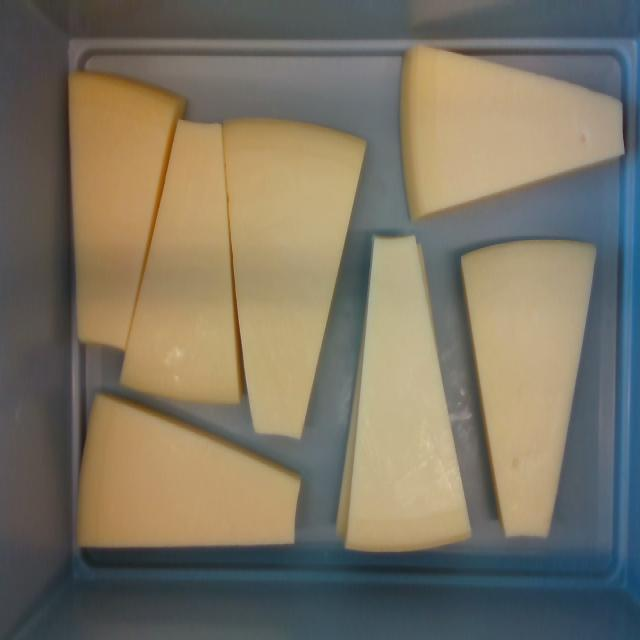cheese: (226, 116, 365, 436), (464, 238, 599, 539), (346, 238, 473, 553), (412, 49, 626, 211), (77, 391, 299, 546), (120, 122, 239, 401), (68, 75, 179, 346)
